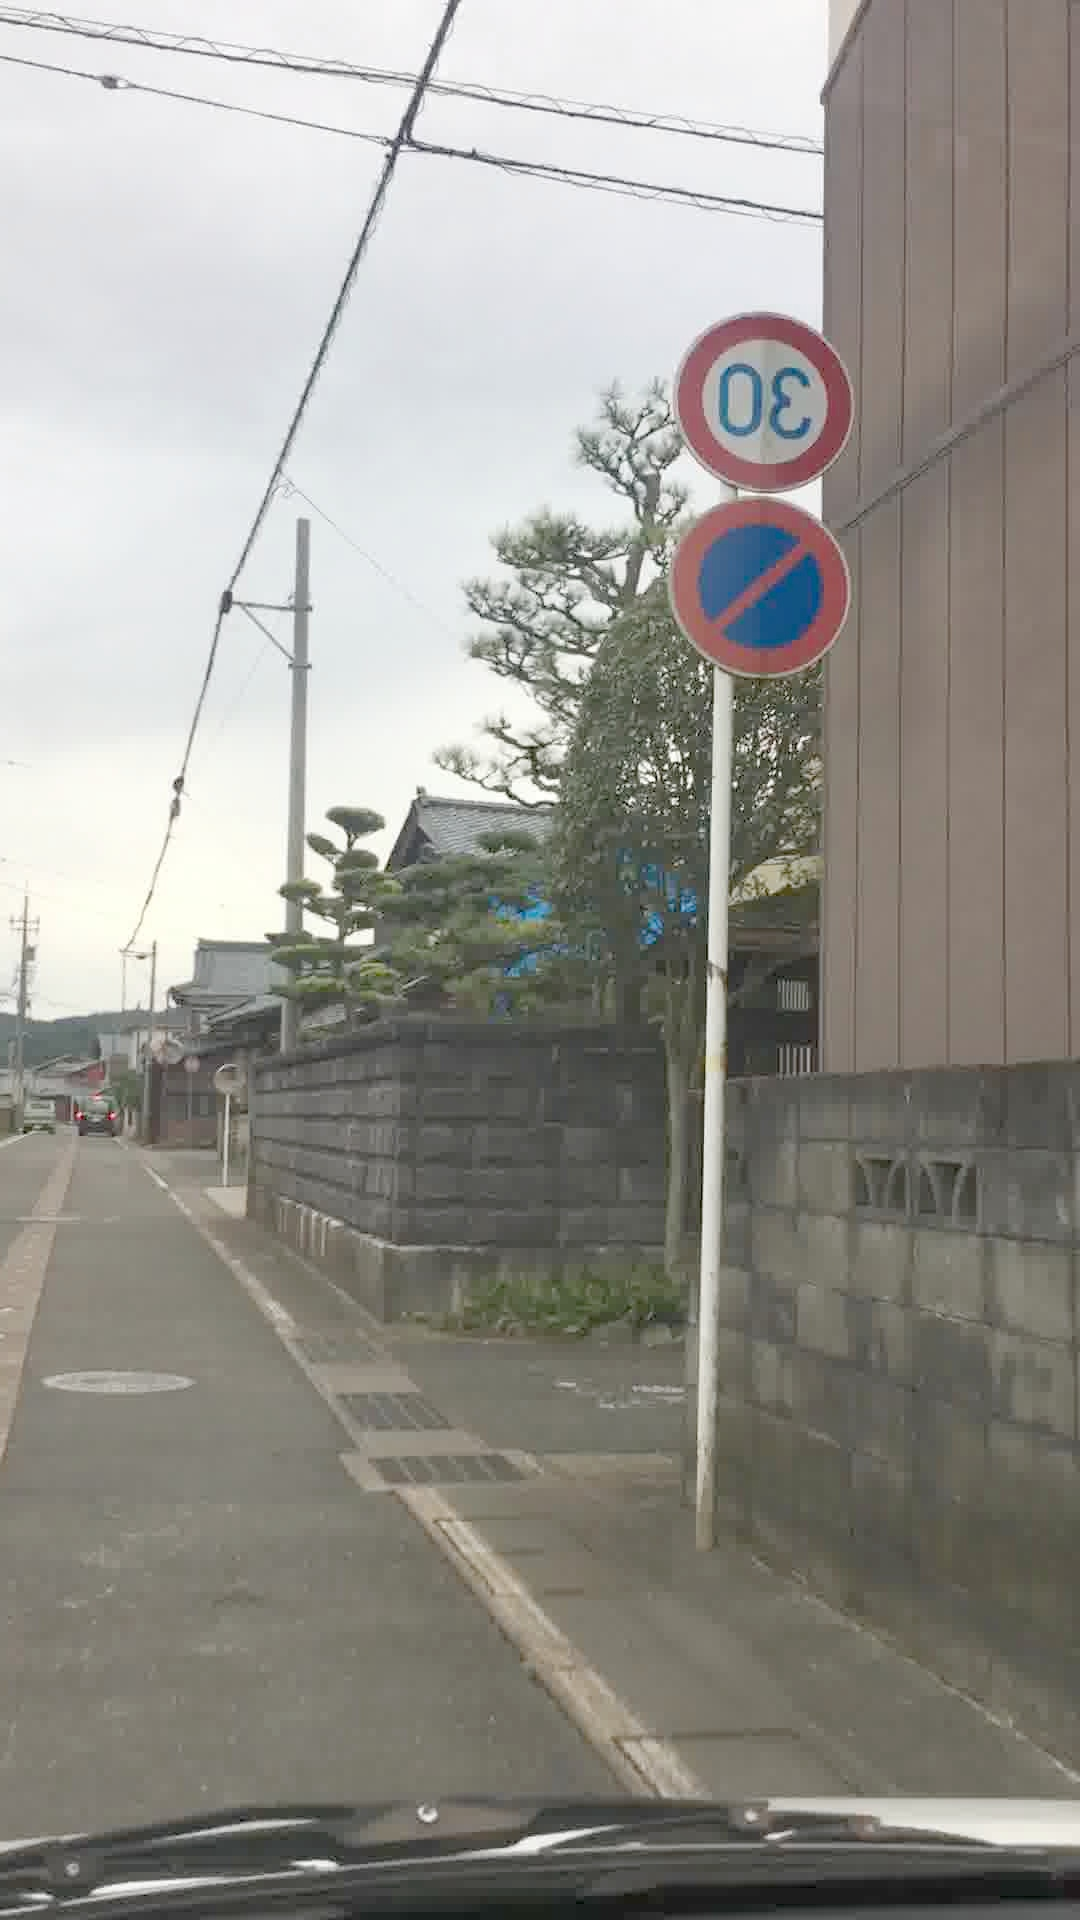Prohibition_sign: (632, 495, 851, 704)
Speed_sign: (666, 310, 868, 506)
